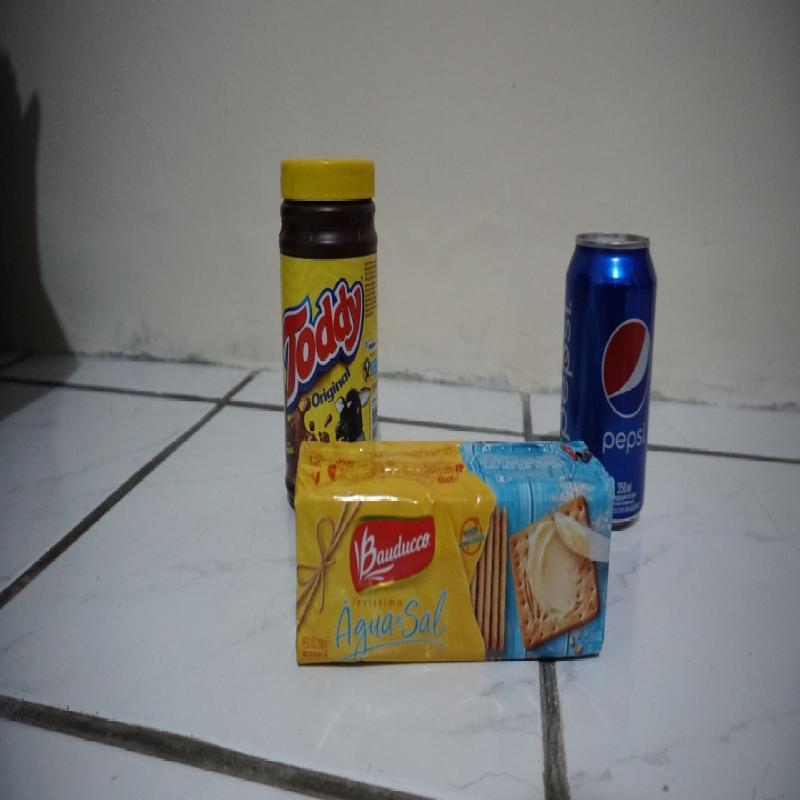Chocolate Powder: (279, 156, 382, 505)
Cracker: (293, 439, 618, 664)
Soda can: (556, 228, 660, 532)
